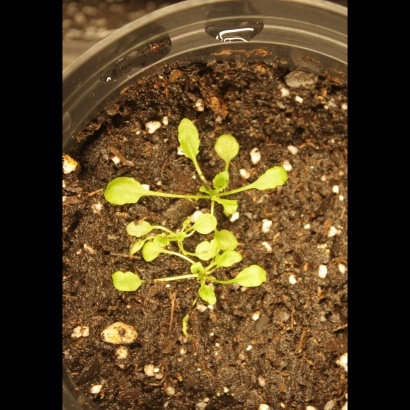leaf: (252, 160, 296, 196), (104, 265, 150, 299), (102, 174, 149, 207), (173, 117, 205, 165), (231, 266, 277, 292), (212, 131, 241, 165), (213, 227, 243, 254), (125, 214, 156, 238), (211, 167, 237, 195), (195, 284, 224, 309), (191, 212, 219, 235), (214, 250, 242, 273), (192, 240, 218, 263), (221, 196, 244, 219), (143, 240, 166, 263), (125, 236, 148, 259), (185, 260, 208, 283)
